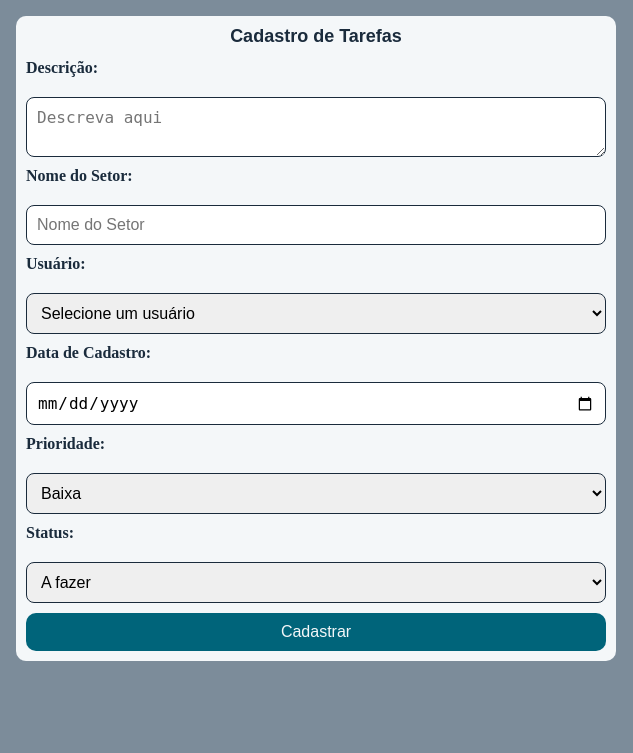
Scenario: Cadastro de Tarefas › deve mostrar erro se o campo Usuário não for preenchido
Type "Descrição válida" into the text box labelled "Descrição:" at (316, 127), box x1=26 y1=97 x2=606 y2=157
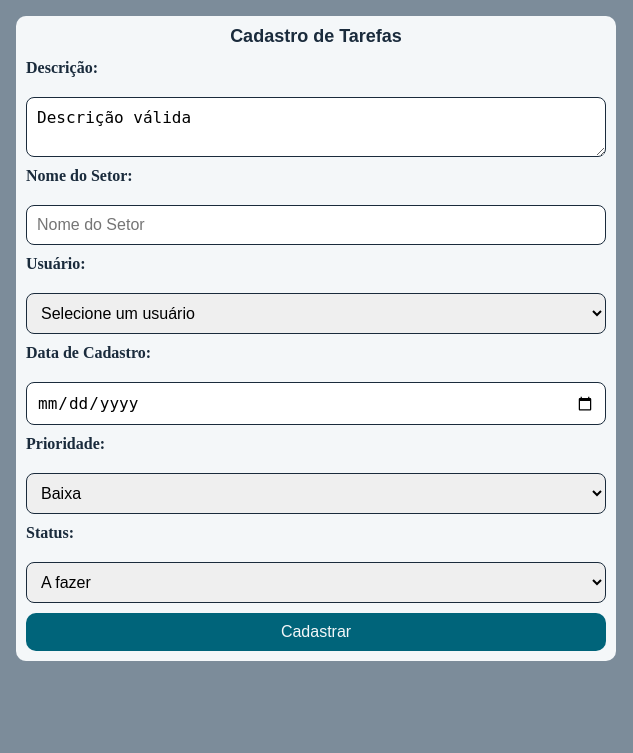
Type "TI" into the field labelled "Nome do Setor:" at (316, 225), box x1=26 y1=205 x2=606 y2=245
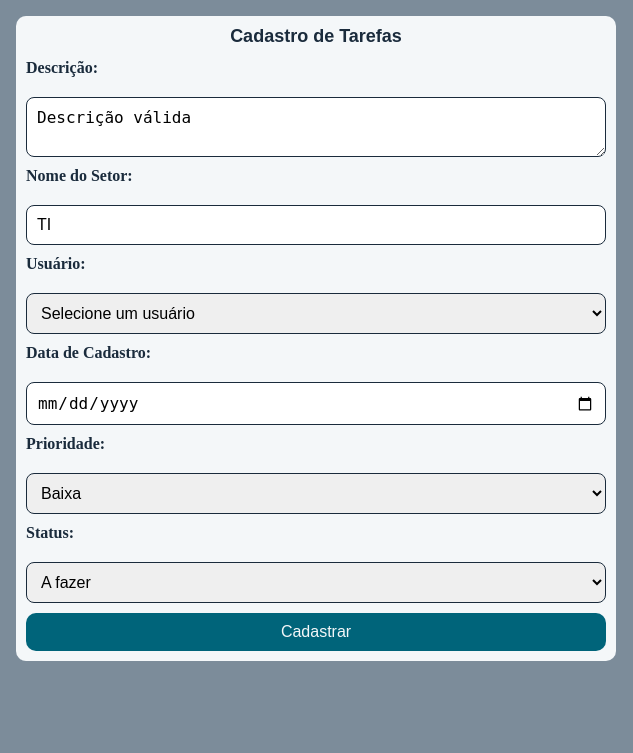
Type "2025-01-01" into the date field labelled "Data de Cadastro:" at (316, 404), box x1=26 y1=382 x2=606 y2=425
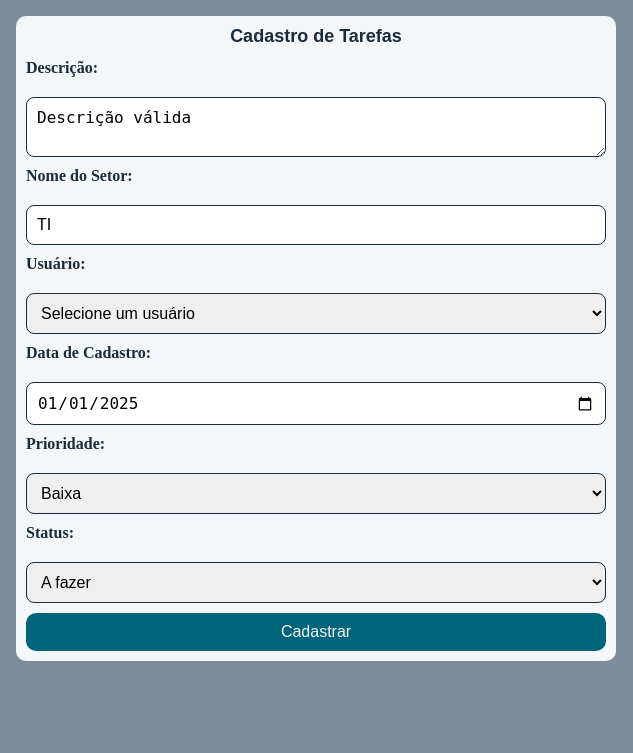
Click the button "Cadastrar" at (316, 632), box x1=26 y1=613 x2=606 y2=651
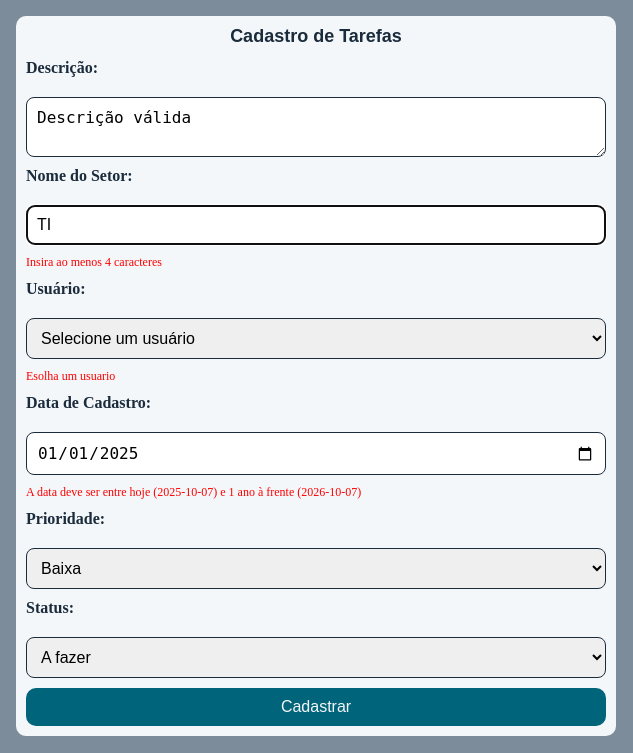
Expected: the text "Esolha um usuario" is shown, x1=26 y1=369 x2=115 y2=383
